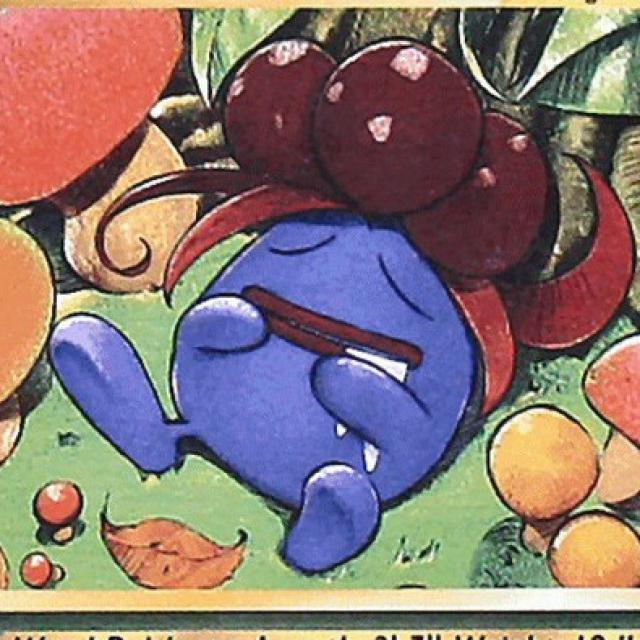Gloom: (129, 38, 519, 586)
